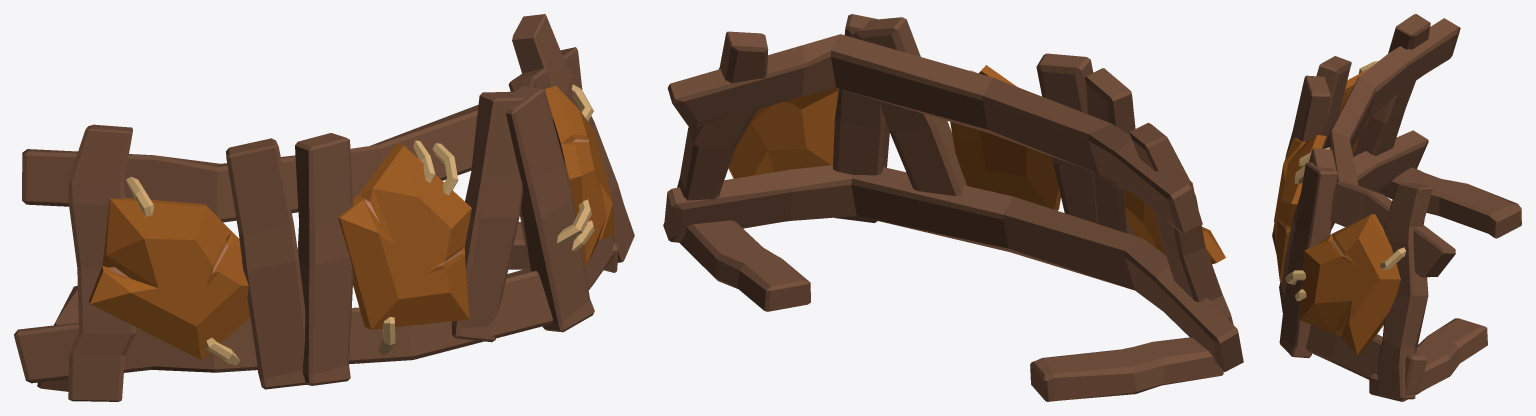
The model's file is WoodenBarricadeRound.fbx.
3 views of the same model, side by side, from view 1: azimuth 30°, elevation 25°; view 2: azimuth 150°, elevation 25°; view 3: azimuth 270°, elevation 25° (orthographic). The views are drawn at different scales.
Parts seen in each view (by area): view 1: WoodenBarricade; view 2: WoodenBarricade; view 3: WoodenBarricade.
Part boxes in pixels (<box>): WoodenBarricade: <box>14,14,634,401</box>; WoodenBarricade: <box>663,14,1243,401</box>; WoodenBarricade: <box>1272,14,1521,401</box>.
Bounding box in the file's own units: 407 × 157 × 184.
1 material, 1 textured.
